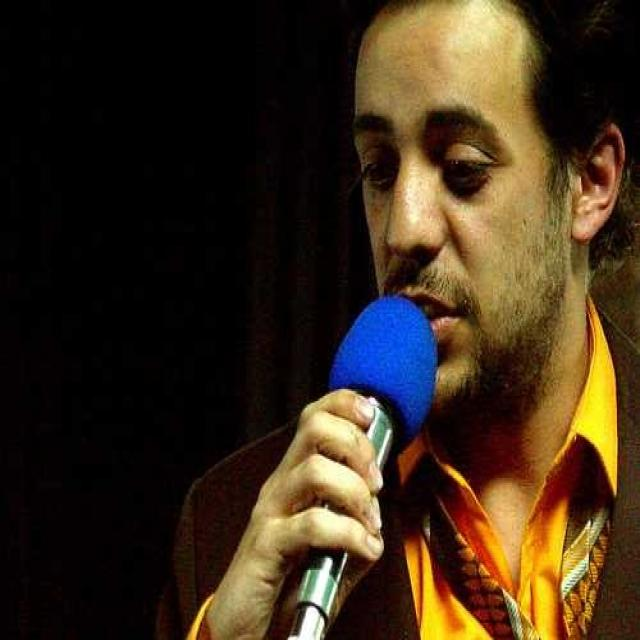microphone: (273, 290, 444, 638)
